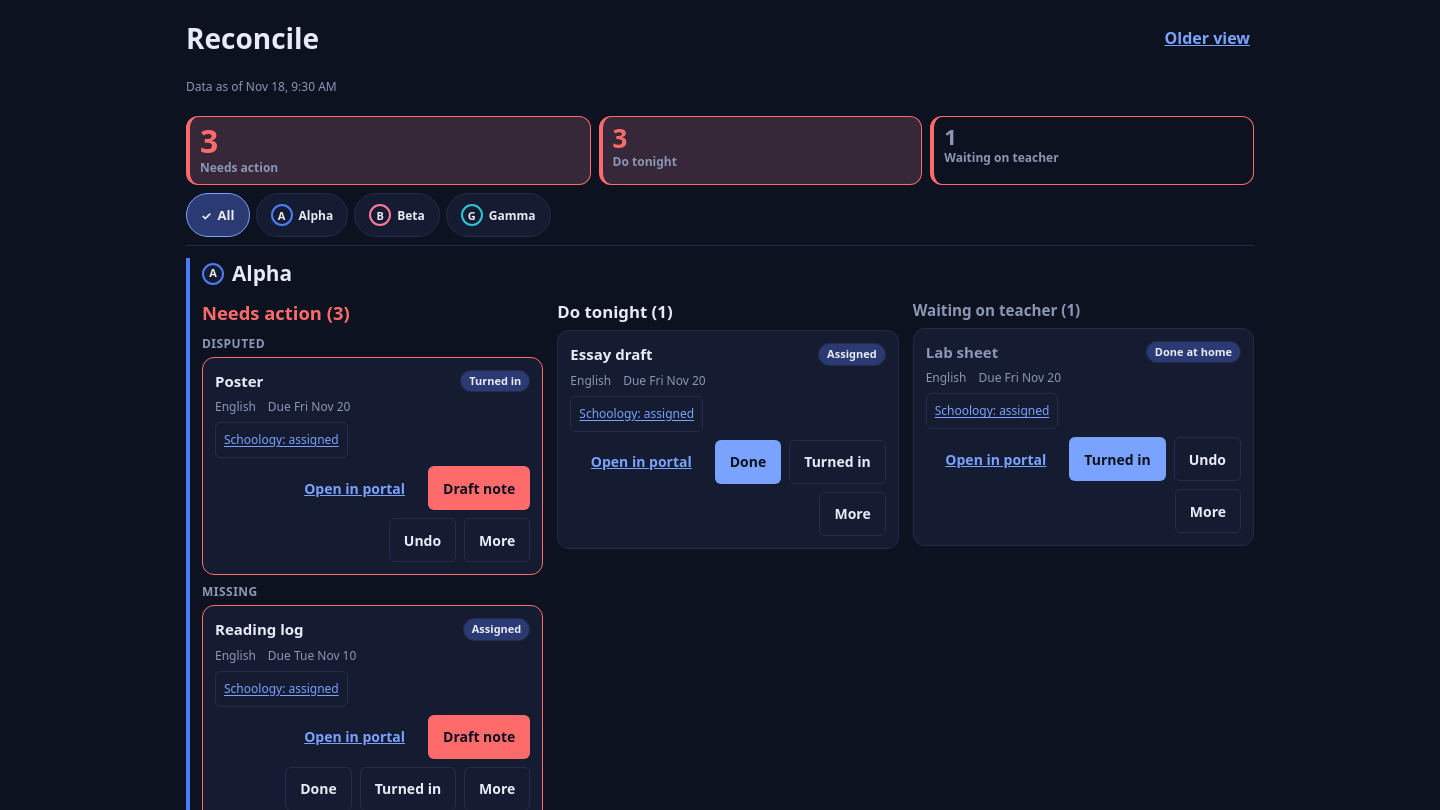
Test case: rollback and one inline message on 503 maintenance
The image size is (1440, 810).
Expected: the heading "Alpha" is shown, [232,258,292,289]
Click the button with aria-label "Mark Essay draft (English, Alpha) turned in": (838, 462) [789,440,886,484]
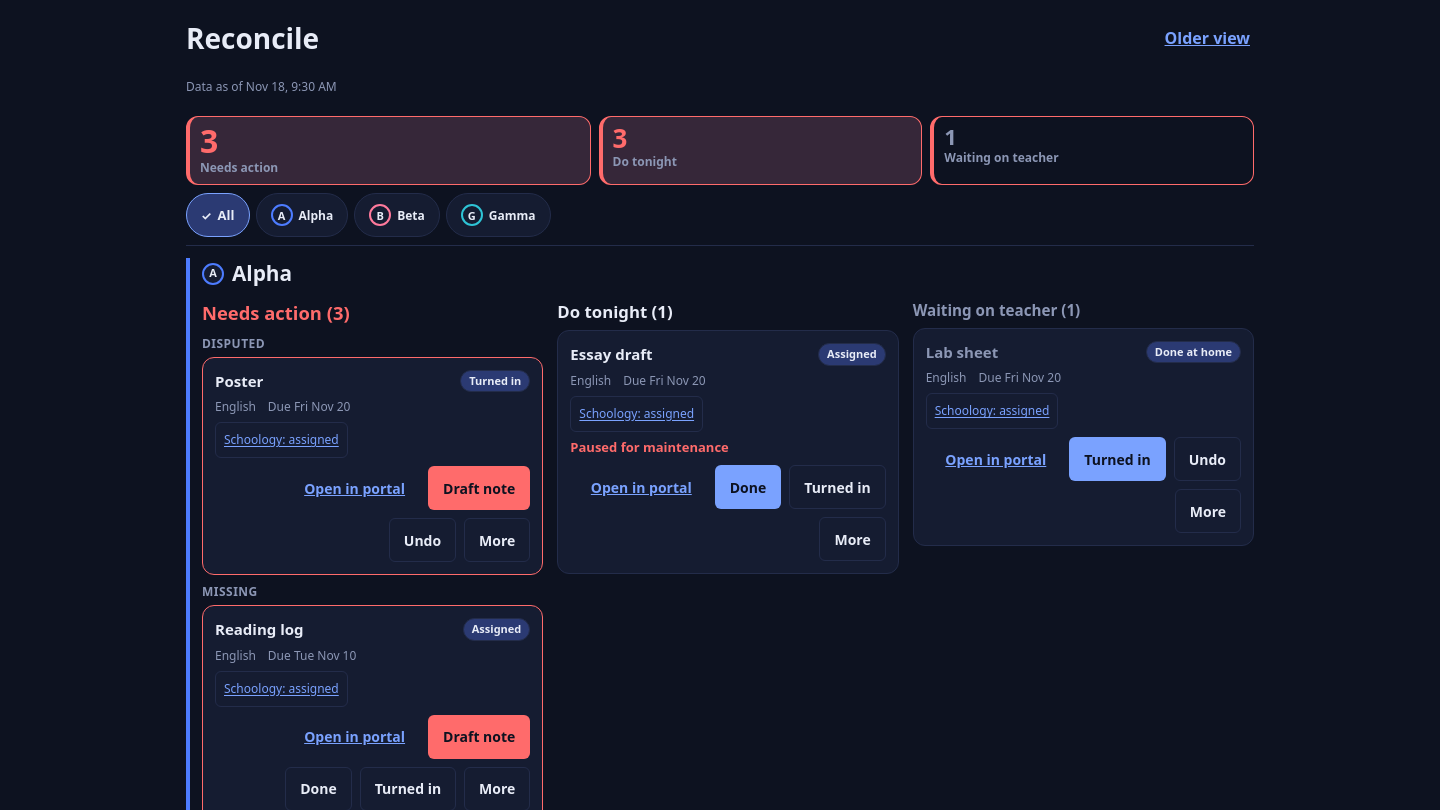
Expected: the element "Essay draft" is shown, [558,331,898,573]
Now the text "Paused for maintenance" is shown, box [570,438,729,456]
